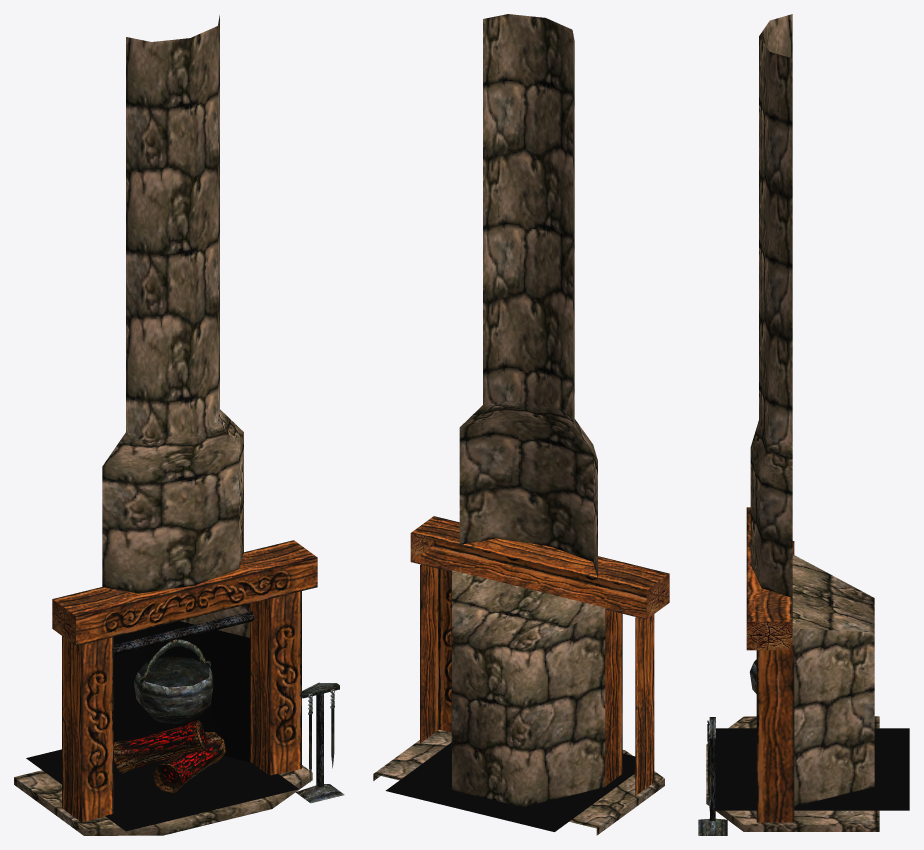
The model's file is INST_LT_FIREPLACE.fbx.
3 renders of one model, left to right at view 1: azimuth 30°, elevation 25°; view 2: azimuth 150°, elevation 25°; view 3: azimuth 270°, elevation 25°, orthographic. The views are drawn at different scales.
Visible parts, largest first — view 1: INST_LT_FIREPLACE; view 2: INST_LT_FIREPLACE; view 3: INST_LT_FIREPLACE.
Boxes of the visible parts, box(x1,y1,x2,y2) form: INST_LT_FIREPLACE: box(14, 15, 344, 835); INST_LT_FIREPLACE: box(373, 14, 669, 835); INST_LT_FIREPLACE: box(698, 14, 909, 835).
Size of the model in its own units: 16948 by 50548 by 13069.
12 materials, 12 textured.
